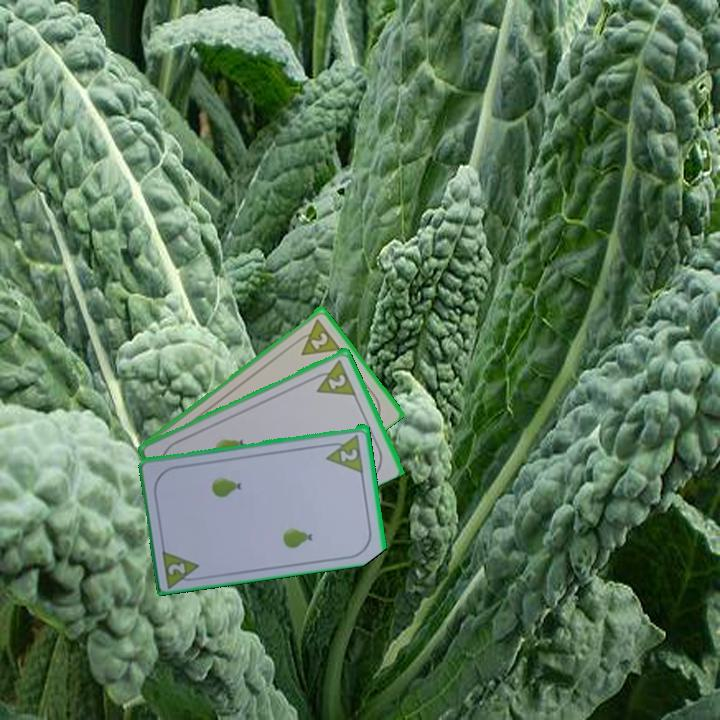2p: (290, 315, 343, 358), (308, 356, 359, 398), (159, 544, 205, 589), (322, 430, 366, 474)
